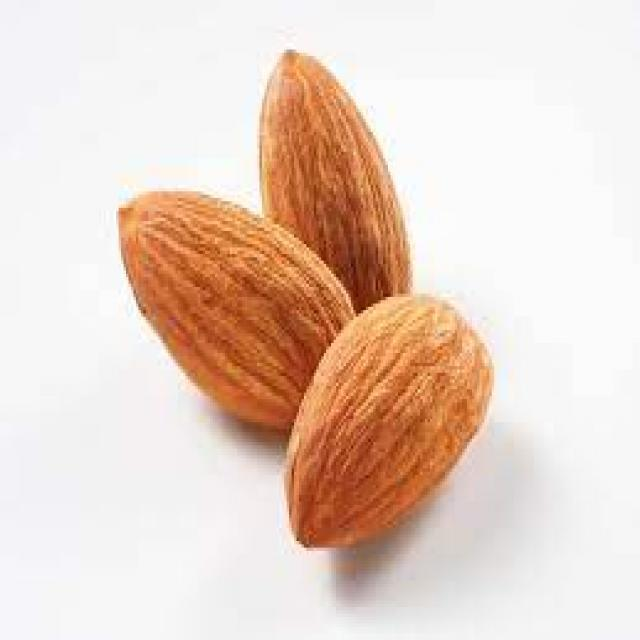almond: (117, 187, 358, 428), (282, 295, 490, 547), (260, 47, 413, 305)
